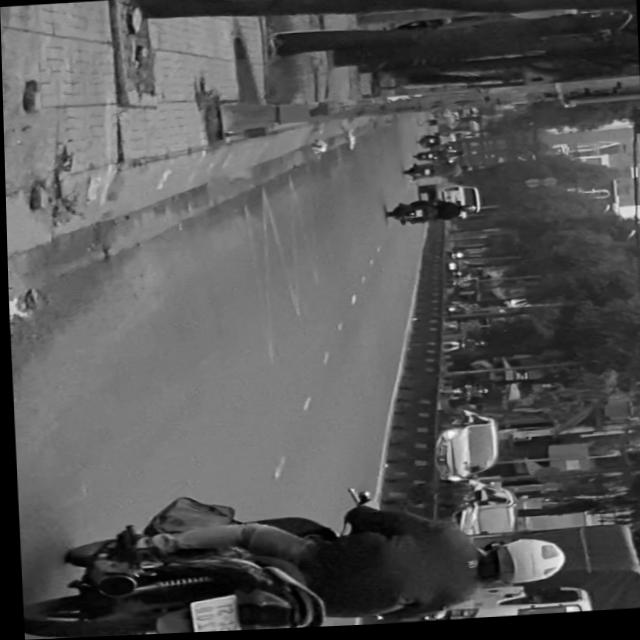helmet: (473, 539, 564, 593)
licenseplate: (15, 480, 567, 640)
nohelmet: (188, 597, 236, 634)
